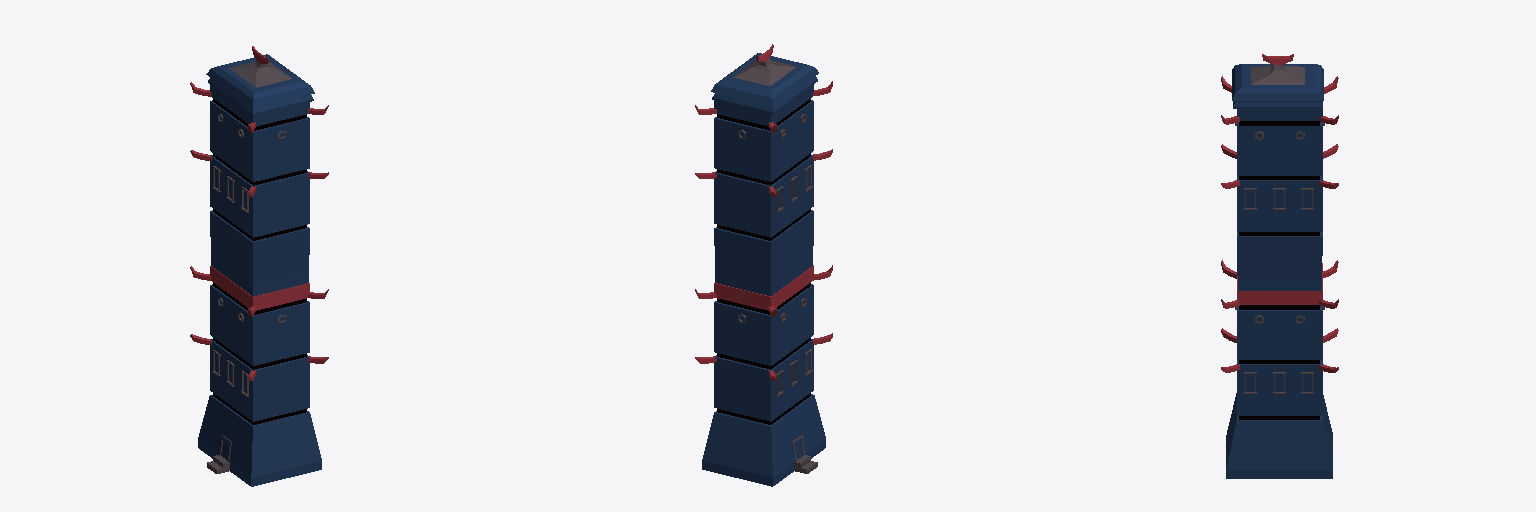
The model's file is Skycreeper_Hose_FF.obj.
3 views of the same model, side by side, from view 1: azimuth 30°, elevation 25°; view 2: azimuth 150°, elevation 25°; view 3: azimuth 270°, elevation 25° (orthographic).
Visible parts, largest first — view 1: Skycreeper_Hose_FF; view 2: Skycreeper_Hose_FF; view 3: Skycreeper_Hose_FF.
Boxes of the visible parts, box(x1,y1,x2,y2) form: Skycreeper_Hose_FF: box(190, 46, 328, 486); Skycreeper_Hose_FF: box(695, 44, 832, 486); Skycreeper_Hose_FF: box(1221, 54, 1338, 478).
Bounding box in the file's own units: 18.86 × 82.71 × 21.73.